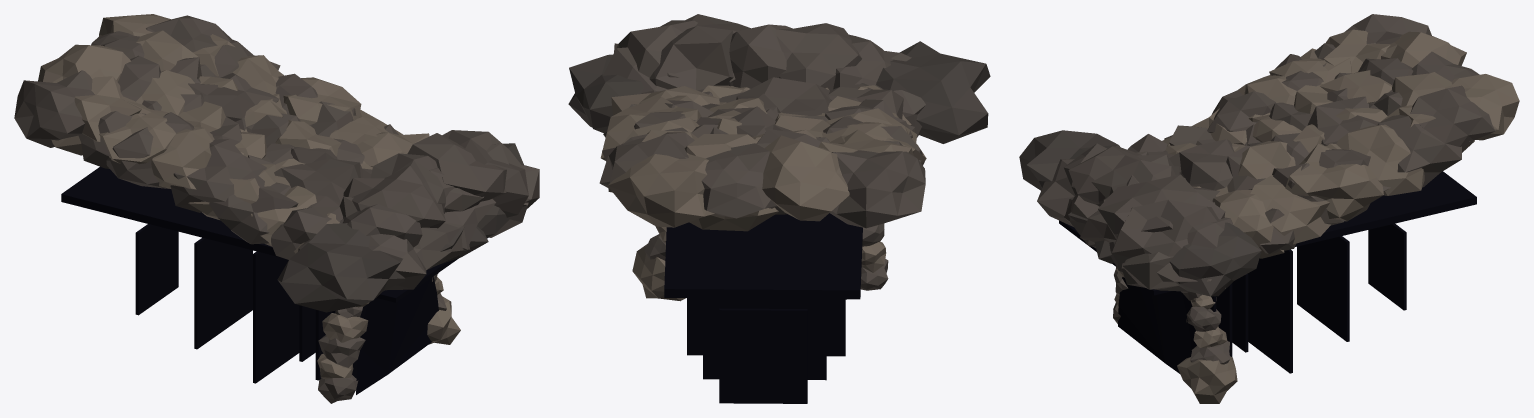
File: coast_echo_grotto.glb
3 renders of one model, left to right at view 1: azimuth 30°, elevation 25°; view 2: azimuth 150°, elevation 25°; view 3: azimuth 270°, elevation 25°, orthographic. The views are drawn at different scales.
Parts seen in each view (by area): view 1: geometry_0; view 2: geometry_0; view 3: geometry_0.
Part boxes in pixels (x1,y1,x2,y2): geometry_0: (14,14,539,403); geometry_0: (568,14,990,403); geometry_0: (1019,14,1519,403).
Bounding box in the file's own units: 53.6 × 35.67 × 61.45.
